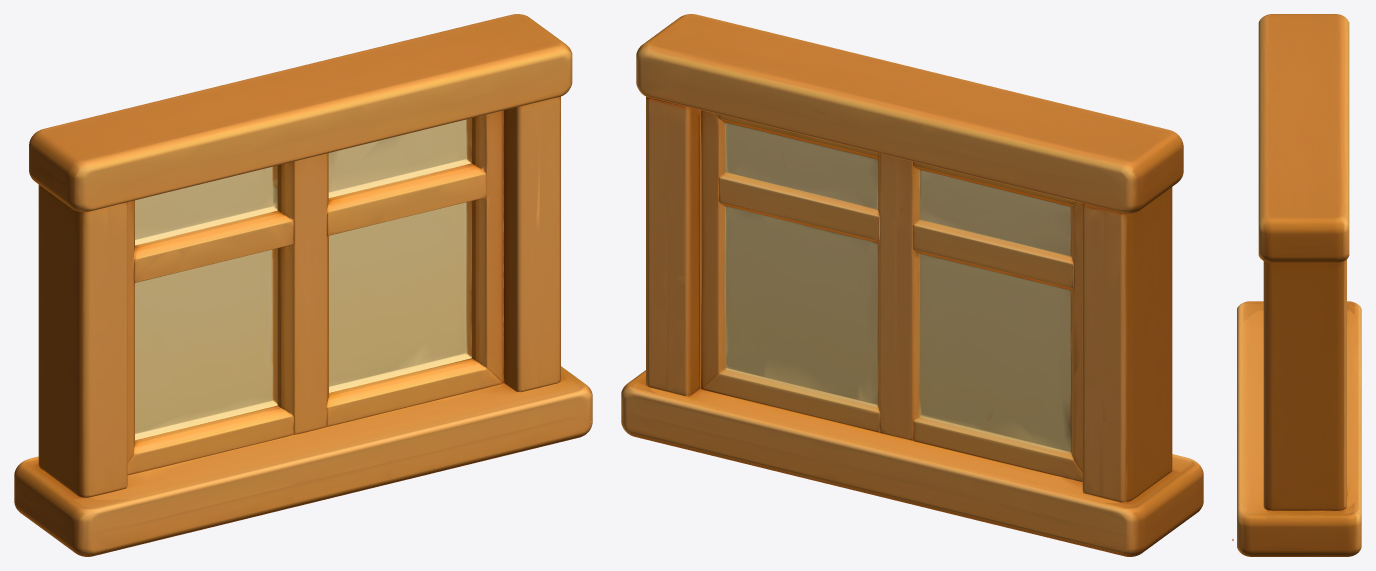
Rendered from window.glb.
3 views of the same model, side by side, from view 1: azimuth 30°, elevation 25°; view 2: azimuth 150°, elevation 25°; view 3: azimuth 270°, elevation 25° (orthographic). The views are drawn at different scales.
Parts seen in each view (by area): view 1: 窗户_用户原件静态总成; view 2: 窗户_用户原件静态总成; view 3: 窗户_用户原件静态总成.
Boxes of the visible parts, x1=… form: 窗户_用户原件静态总成: x1=14, y1=14, x2=592, y2=556; 窗户_用户原件静态总成: x1=621, y1=14, x2=1203, y2=556; 窗户_用户原件静态总成: x1=1232, y1=14, x2=1361, y2=556.
Bounding box in the file's own units: 1.05 × 0.7436 × 0.2606.
Materials: 1 (1 with a texture image).
